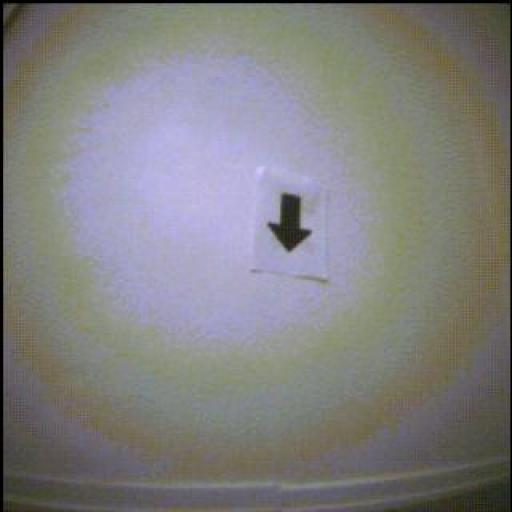arrow: (269, 195, 312, 252)
